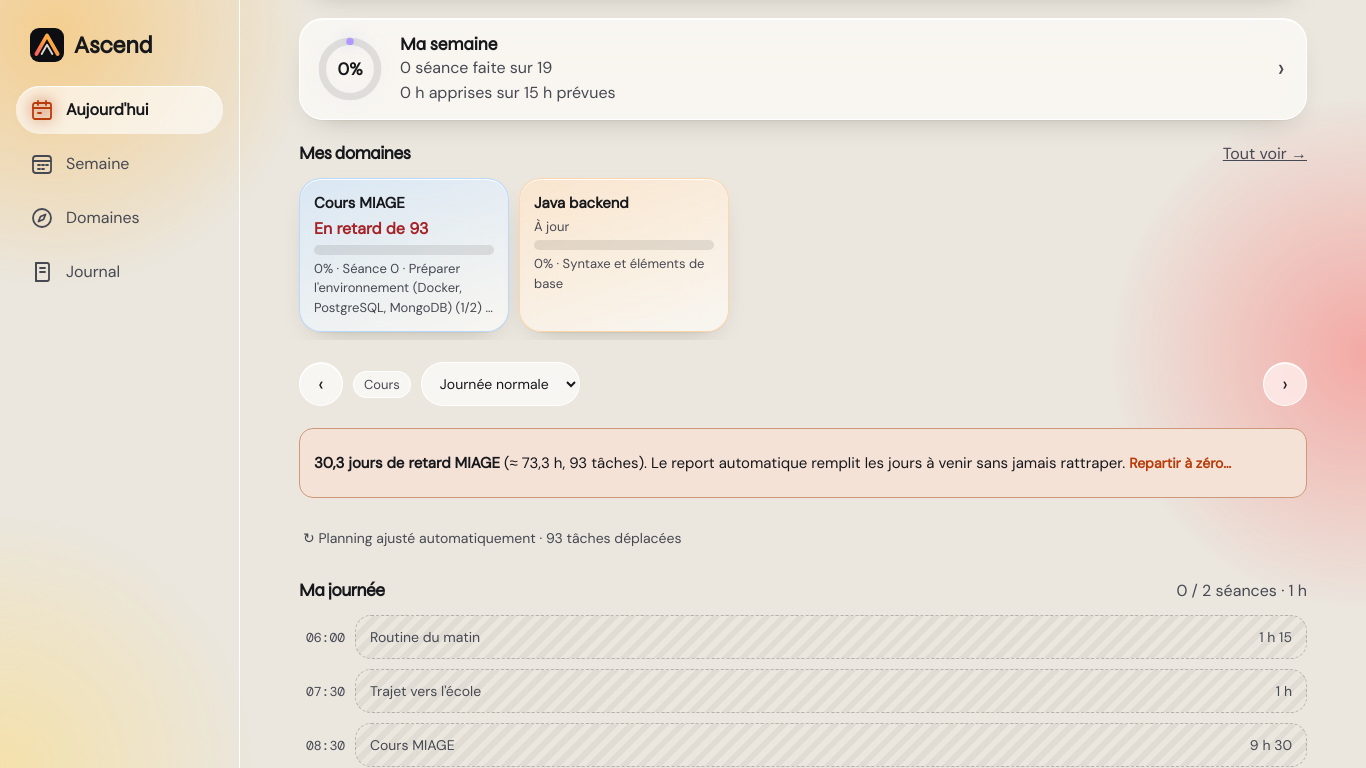
Test: aujourd'hui › navigue au jour précédent
(page scrolled)
Click the link named "Jour précédent".
click(321, 384)  # box [299,362,343,406]
(page scrolled)
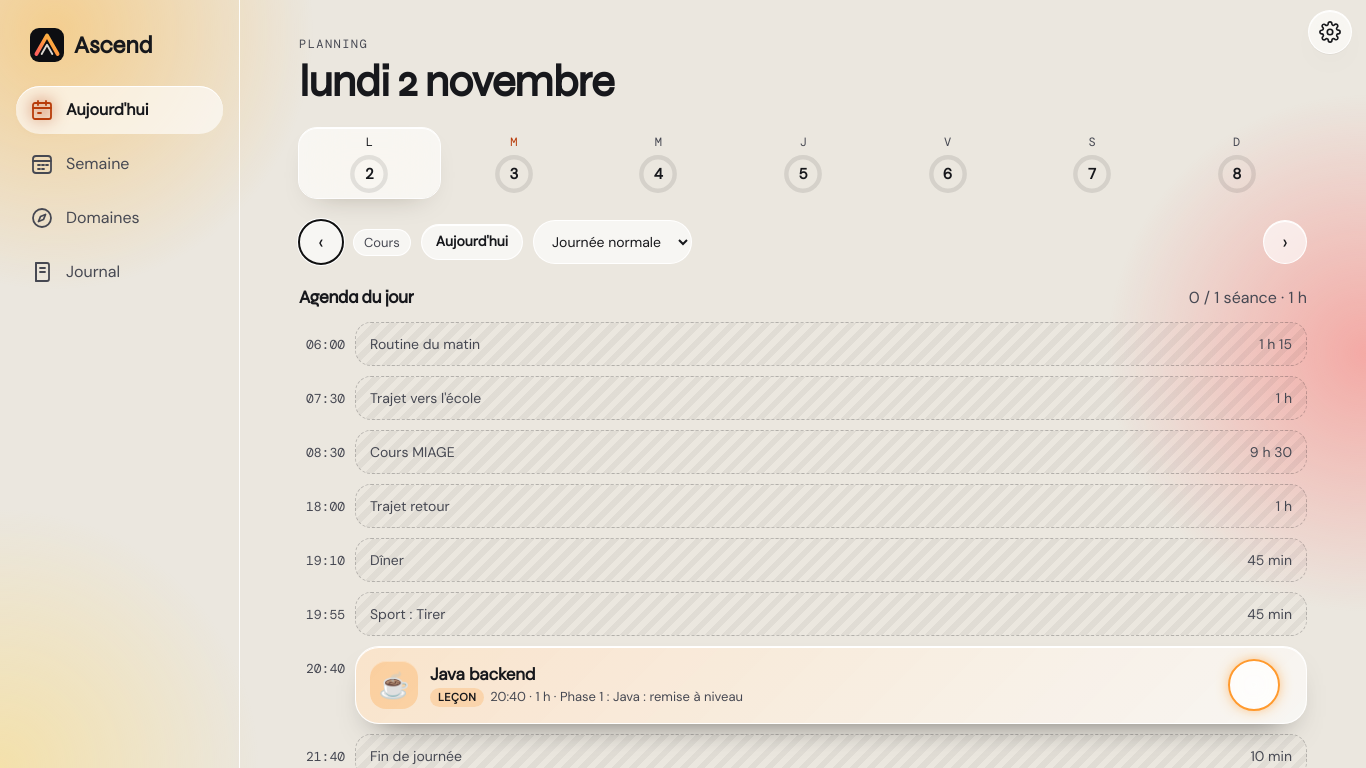
Expected: the heading "lundi 2 novembre" is shown, [299,55,614,108]
